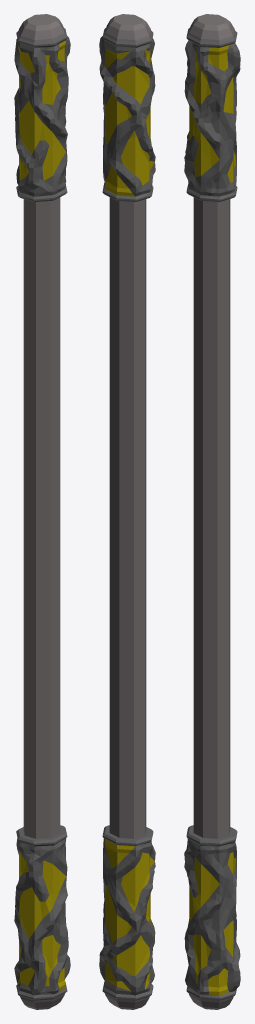
File: pala.fbx
3 views of the same model, side by side, from view 1: azimuth 30°, elevation 25°; view 2: azimuth 150°, elevation 25°; view 3: azimuth 330°, elevation 25° (orthographic).
Parts seen in each view (by area): view 1: STICK FINAL; view 2: STICK FINAL; view 3: STICK FINAL.
Boxes of the visible parts, box(x1,y1,x2,y2) form: STICK FINAL: box(14, 14, 70, 1009); STICK FINAL: box(99, 14, 155, 1009); STICK FINAL: box(184, 14, 240, 1009).
Bounding box in the file's own units: 26.54 × 462 × 22.66.
